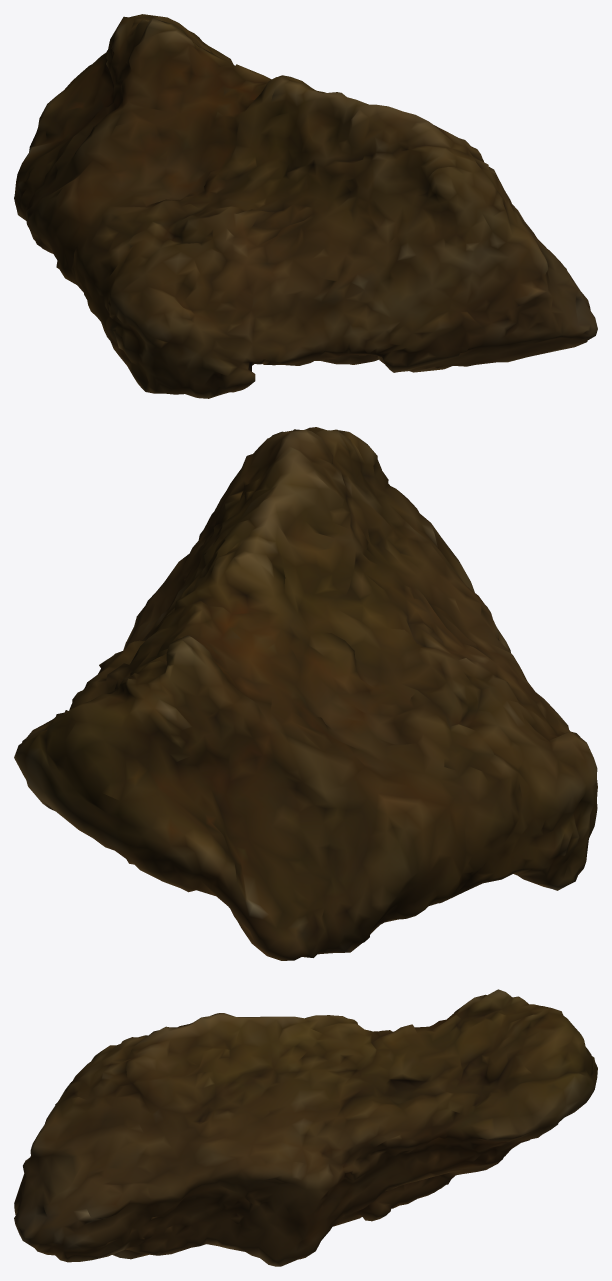
The model's file is Rock.fbx.
The picture shows the model from 3 angles, top to bottom: view 1: azimuth 30°, elevation 25°; view 2: azimuth 150°, elevation 25°; view 3: azimuth 270°, elevation 25°; orthographic projection. The views are drawn at different scales.
Parts seen in each view (by area): view 1: Rock_Sandstone-Photoscan_A_spring-summer-autumn; view 2: Rock_Sandstone-Photoscan_A_spring-summer-autumn; view 3: Rock_Sandstone-Photoscan_A_spring-summer-autumn.
Boxes of the visible parts, bbox=[...] form: Rock_Sandstone-Photoscan_A_spring-summer-autumn: bbox=[14, 14, 597, 398]; Rock_Sandstone-Photoscan_A_spring-summer-autumn: bbox=[14, 427, 597, 960]; Rock_Sandstone-Photoscan_A_spring-summer-autumn: bbox=[14, 989, 597, 1266].
Size of the model in its own units: 224 by 147 by 337.
